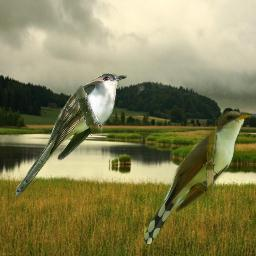Cuckoo: (13, 72, 127, 200), (144, 111, 252, 244)
